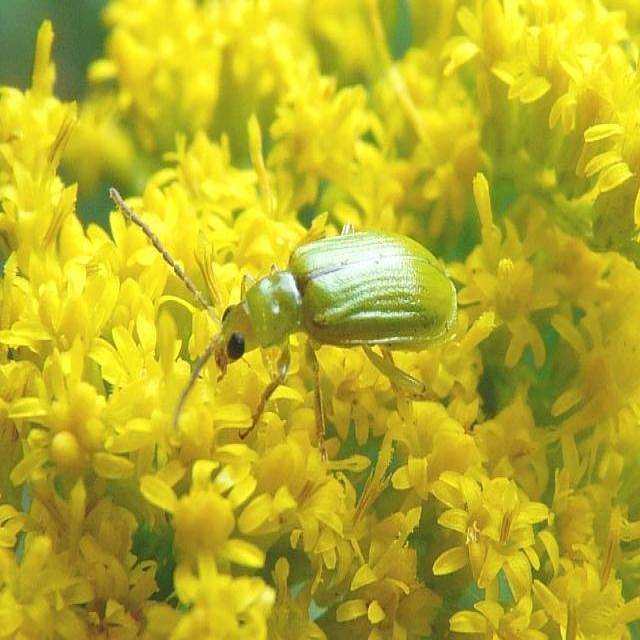gusano_gris: (111, 185, 459, 465)
